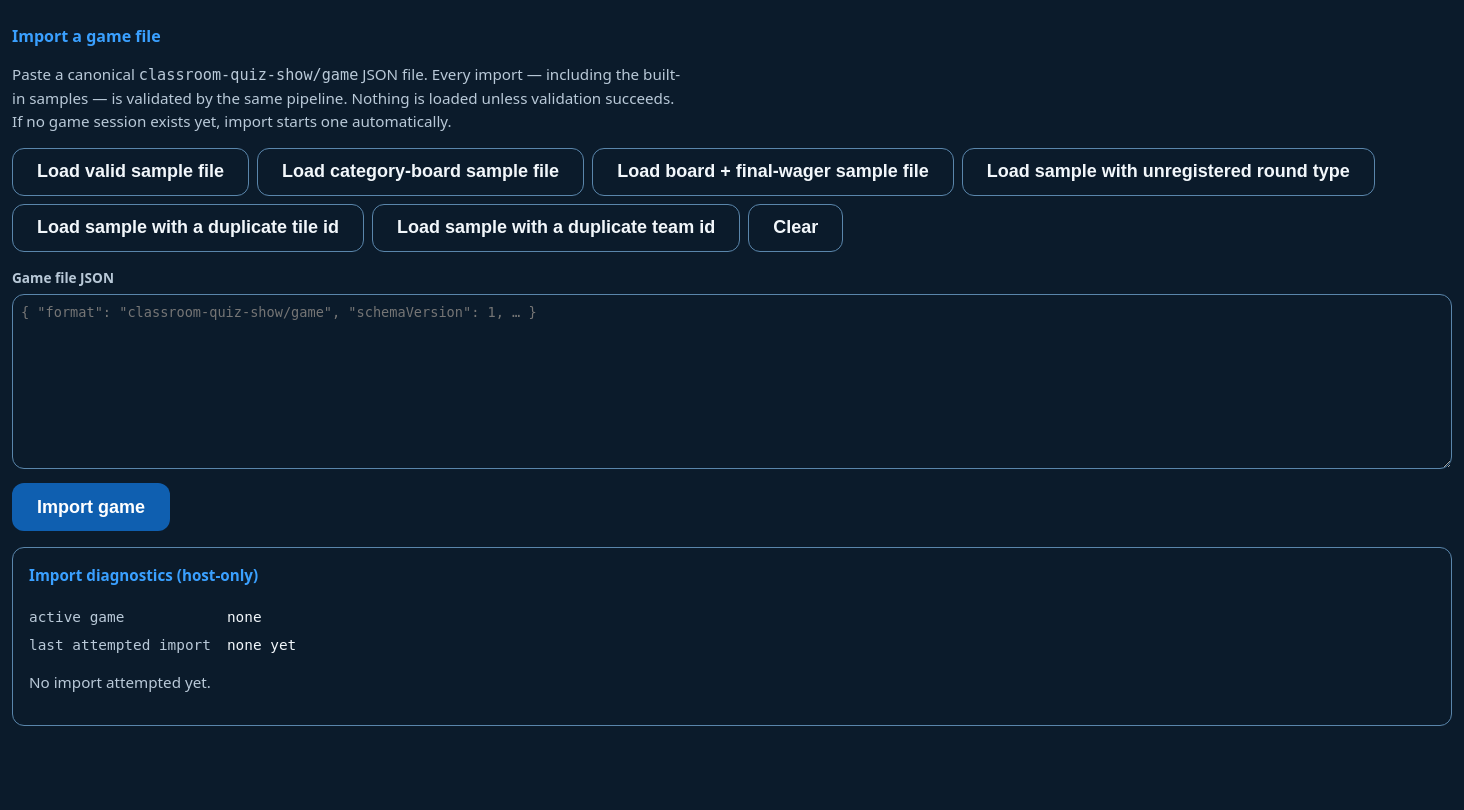
Test: GameImportPanel › rejects the built-in unregistered-type sample like any other input
Step 1. Click the button "Load sample with unregistered round type" → x=1168, y=172, box 962,148 -> 1375,196
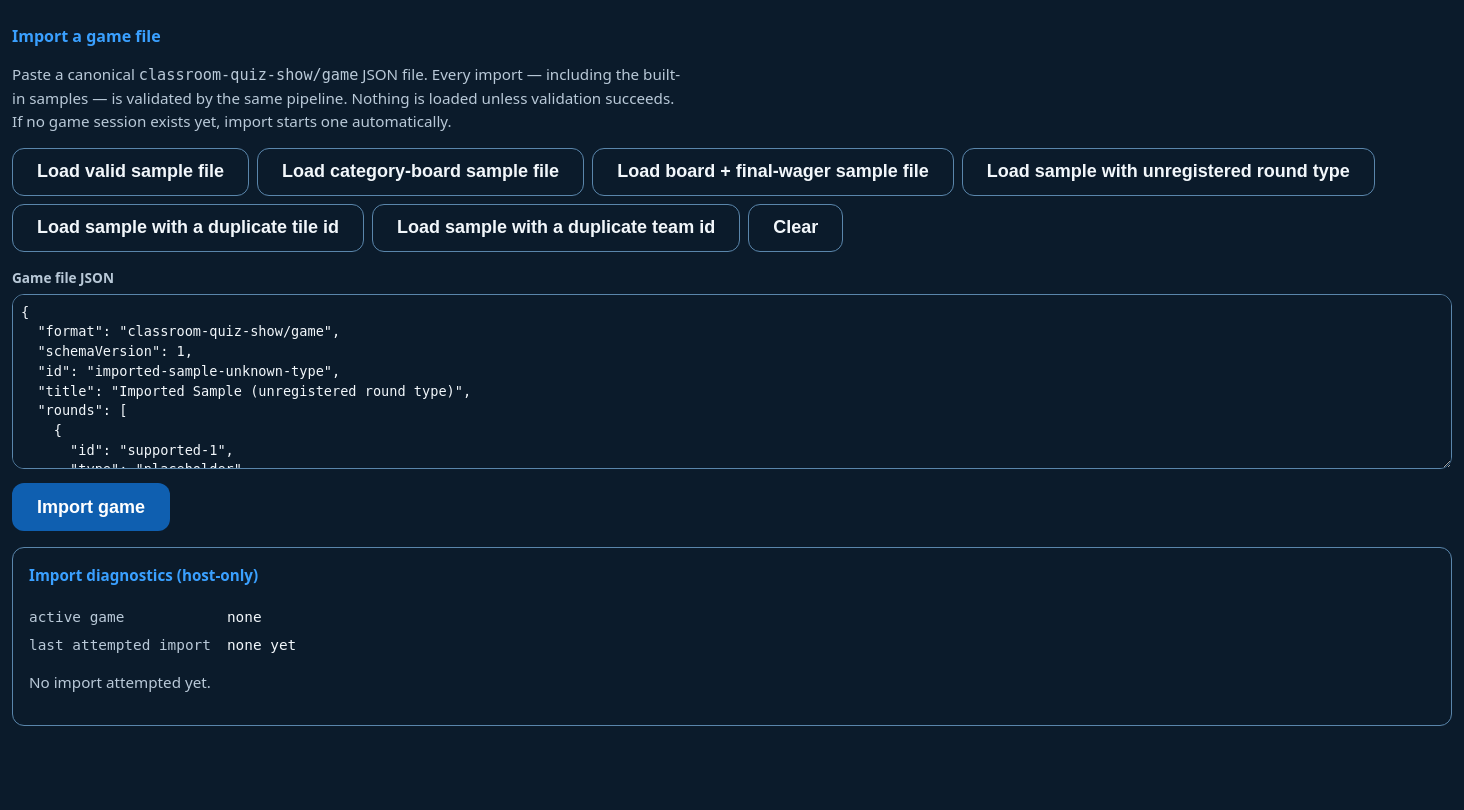
Step 2. Click the button with test id "import-run" → x=91, y=507, box 12,483 -> 170,531
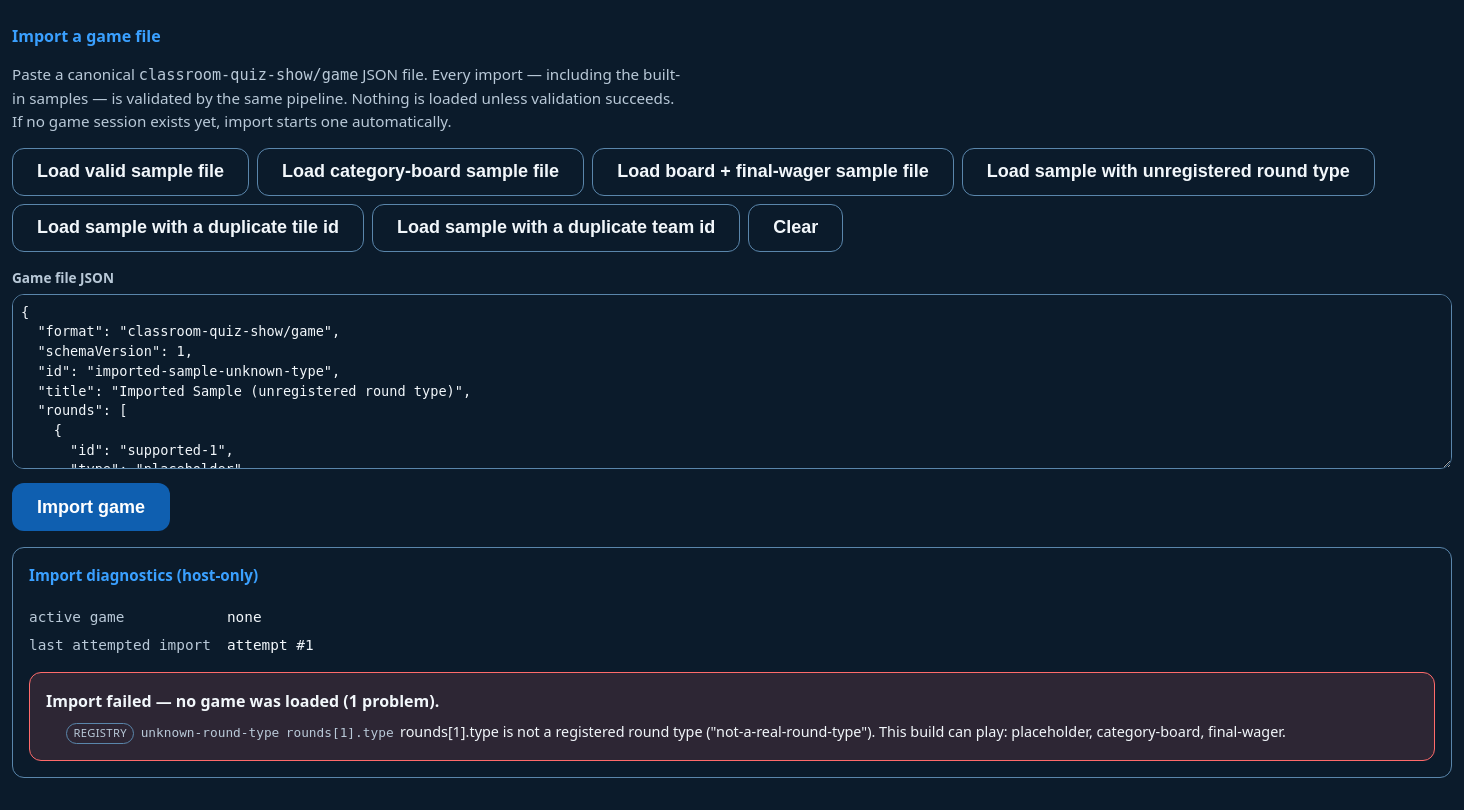
Expected: the element with test id "import-result" shows "unknown-round-type", 141,725 -> 279,740
